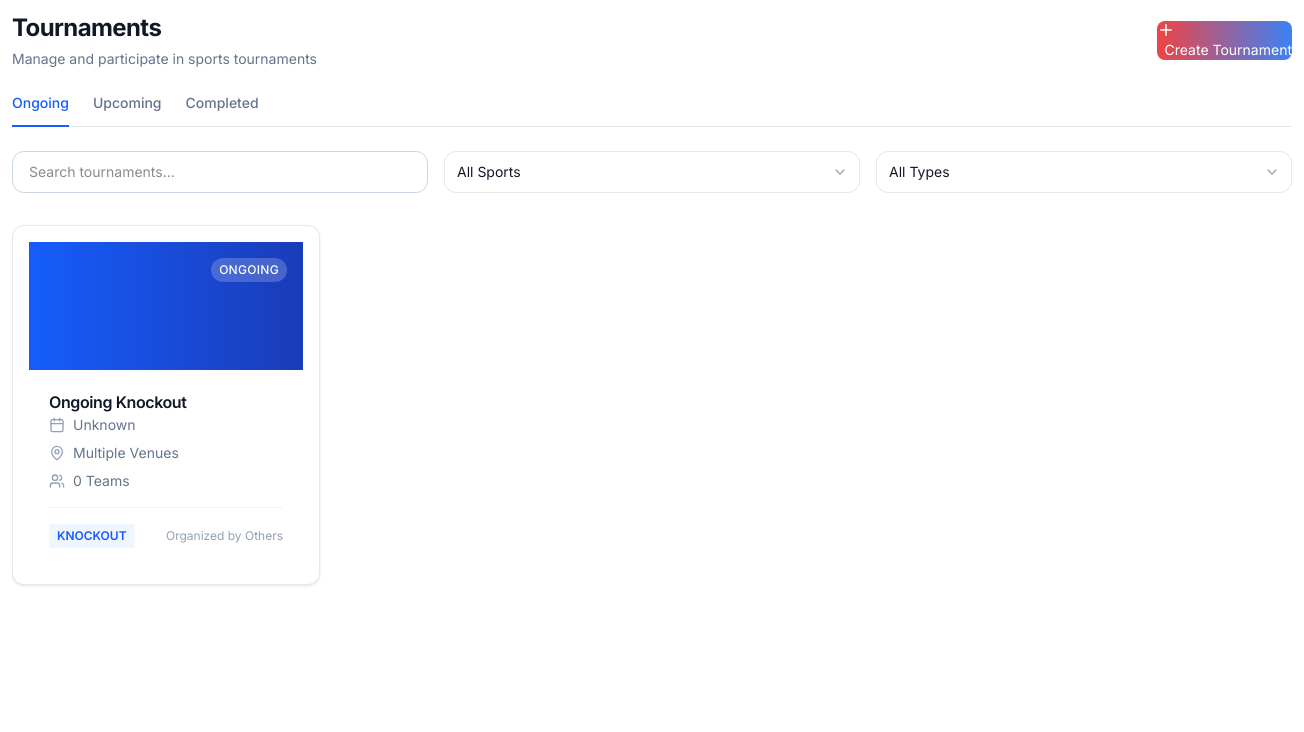
Test case: TournamentListFilter › filters by Sport
Note: Switch to Upcoming to test Cricket (s1)
Click the button "Upcoming". click: (127, 110)
box: [93,93,162,127]
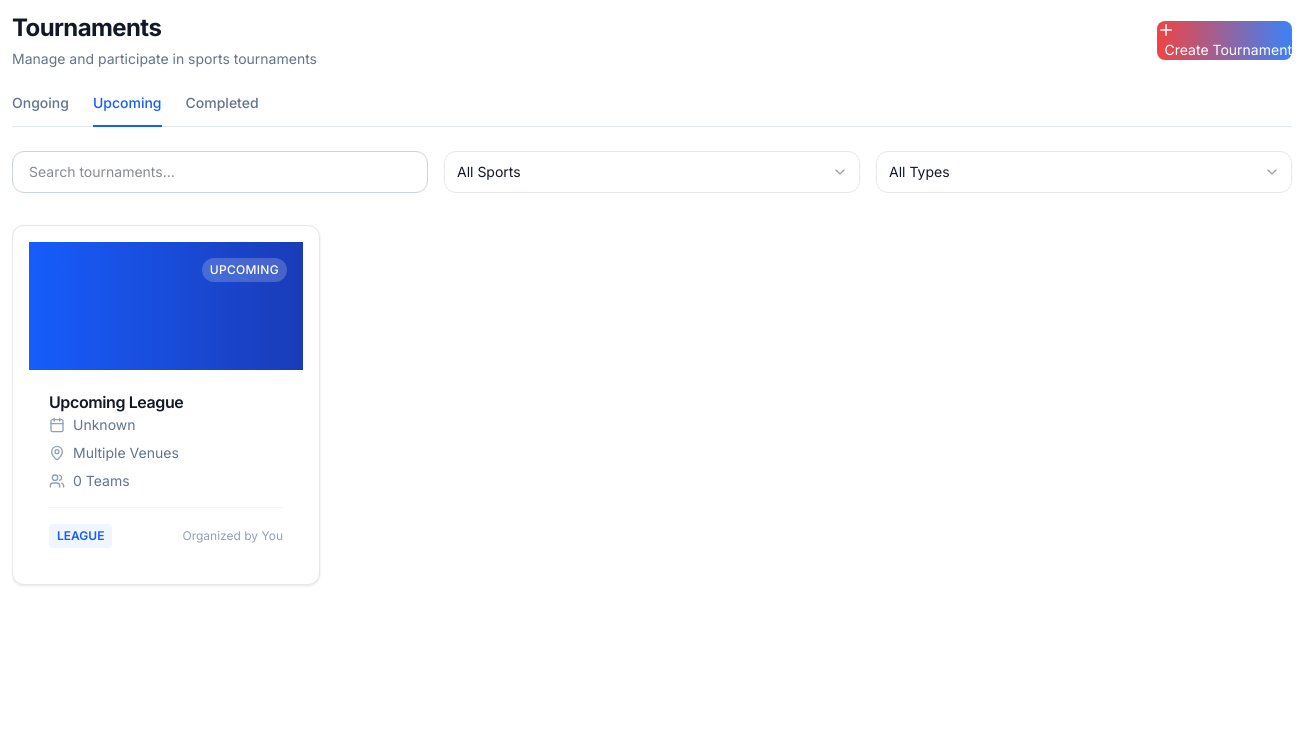
Note: Filter by Cricket
Select "Cricket" in the 1st dropdown. click: (652, 172)
box: [444,151,860,193]
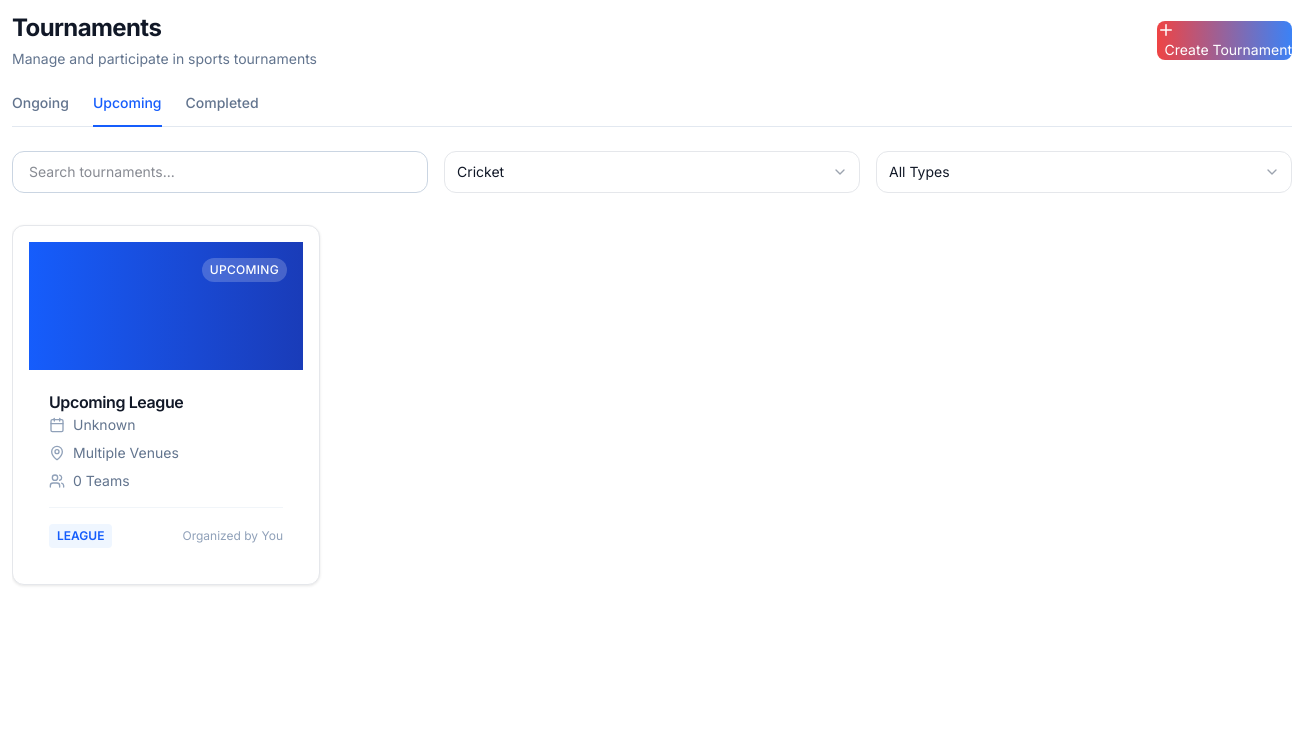
expect the heading "Upcoming League" is shown: met, box [49,392,183,412]
Note: Filter by Football (should show empty in Upcoming tab)
Select "Football" in the 1st dropdown. click: (652, 172)
box: [444,151,860,193]
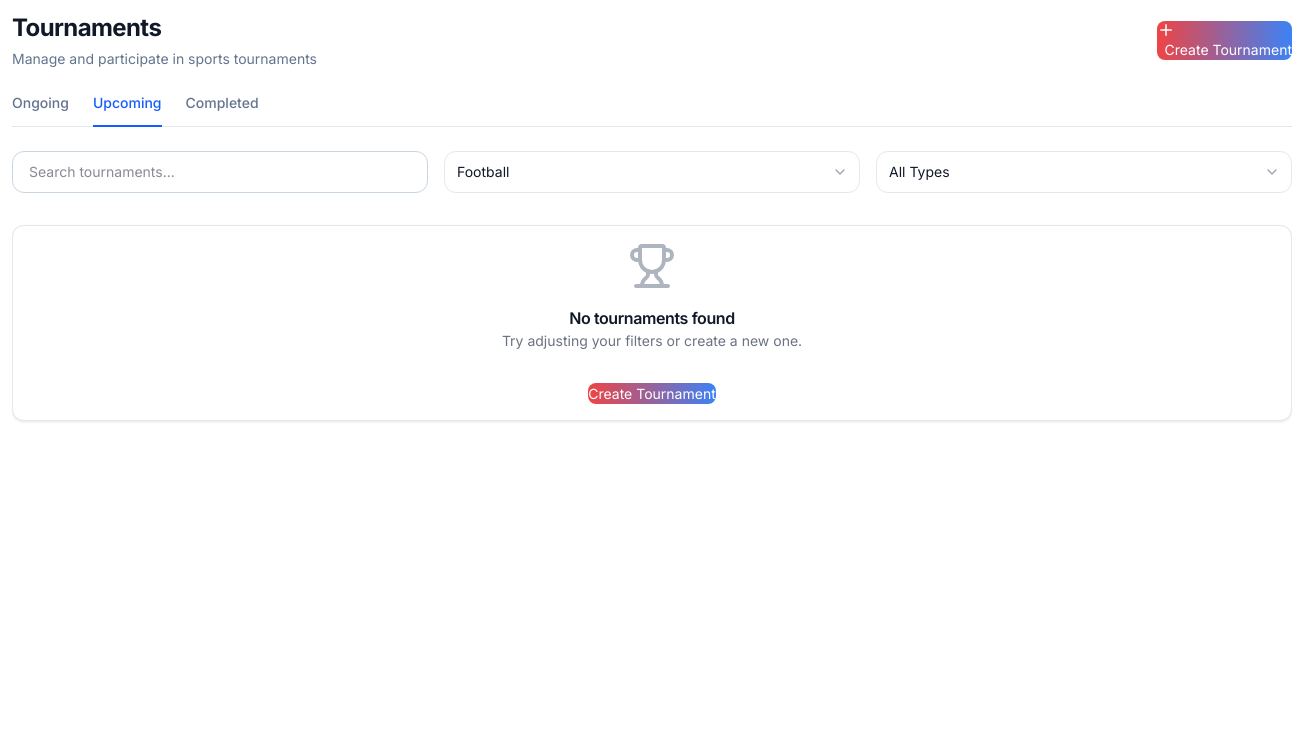
expect the heading "Upcoming League" is gone: met
